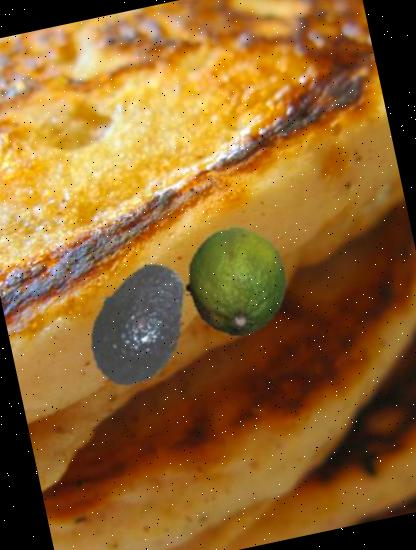Avocado: (62, 246, 214, 398)
Limes: (171, 217, 300, 346)
